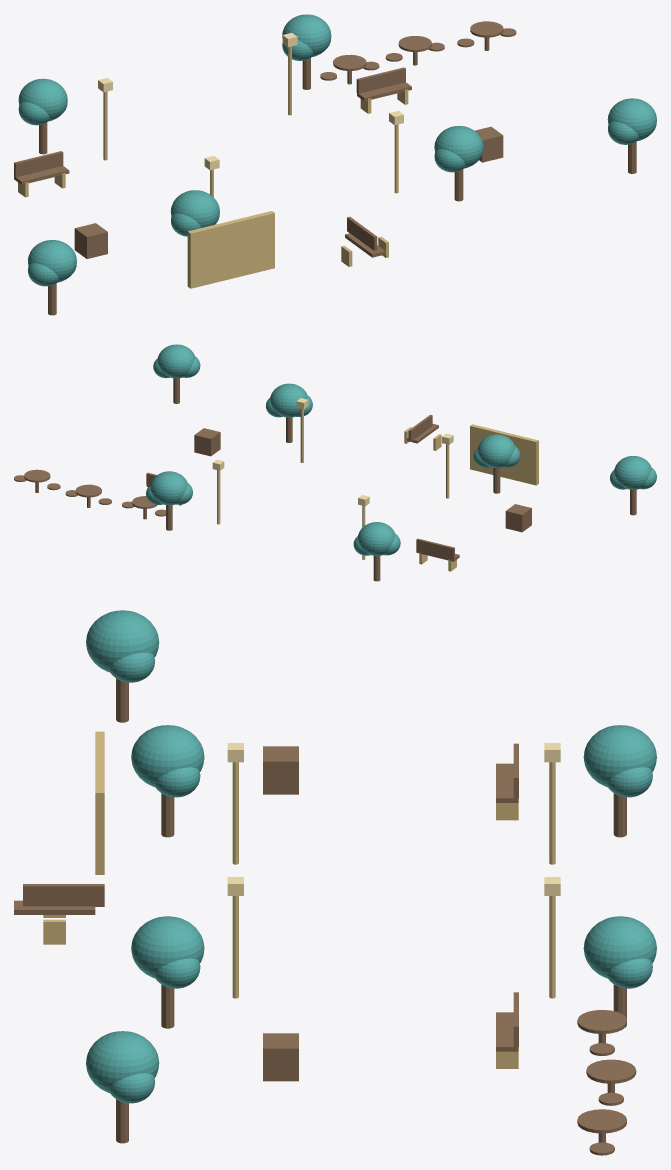
The model's file is nervix_props.glb.
3 views of the same model, one above another, from view 1: azimuth 30°, elevation 25°; view 2: azimuth 150°, elevation 25°; view 3: azimuth 270°, elevation 25° (orthographic). The views are drawn at different scales.
Visible parts, largest first — view 1: ad_plaza, tree_2_leaf0, tree_1_leaf0, tree_4_leaf0, tree_5_leaf0, tree_0_leaf0, tree_3_leaf0, crate_0, bench_1_back, bench_0_back, crate_1, tree_1_leaf2 (+10 smaller); view 2: ad_plaza, tree_3_leaf0, tree_0_leaf0, tree_5_leaf0, tree_4_leaf0, tree_2_leaf0, tree_1_leaf0, crate_0, crate_1, bench_0_back; view 3: tree_3_leaf0, tree_0_leaf0, tree_2_leaf0, tree_4_leaf0, tree_1_leaf0, tree_5_leaf0, bench_2_back, crate_0, crate_1, ad_plaza, tree_2_leaf1, tree_3_leaf1 (+8 smaller).
Boxes of the visible parts, x1,y1,x2,y2 form: ad_plaza: (187, 211, 274, 288); tree_2_leaf0: (18, 78, 67, 121); tree_1_leaf0: (434, 126, 483, 168); tree_4_leaf0: (28, 240, 76, 282); tree_5_leaf0: (607, 98, 656, 140); tree_0_leaf0: (170, 190, 219, 227); tree_3_leaf0: (282, 14, 331, 56); crate_0: (74, 223, 107, 258); bench_1_back: (356, 67, 405, 93); bench_0_back: (14, 151, 63, 177); crate_1: (475, 126, 503, 162); tree_1_leaf2: (434, 149, 465, 172); ad_plaza: (470, 424, 538, 485); tree_3_leaf0: (150, 471, 187, 505); tree_0_leaf0: (477, 434, 515, 468); tree_5_leaf0: (157, 344, 194, 378); tree_4_leaf0: (614, 456, 651, 489); tree_2_leaf0: (358, 522, 395, 555); tree_1_leaf0: (270, 383, 307, 417); crate_0: (505, 504, 531, 532); crate_1: (194, 428, 220, 456); bench_0_back: (416, 538, 454, 559); tree_3_leaf0: (583, 916, 656, 978); tree_0_leaf0: (131, 725, 204, 786); tree_2_leaf0: (583, 725, 656, 787); tree_4_leaf0: (86, 610, 159, 672); tree_1_leaf0: (131, 916, 204, 978); tree_5_leaf0: (86, 1031, 159, 1093); bench_2_back: (23, 884, 104, 906); crate_0: (263, 746, 298, 794); crate_1: (263, 1033, 298, 1081); ad_plaza: (95, 731, 104, 874); tree_2_leaf1: (606, 767, 652, 797); tree_3_leaf1: (606, 958, 652, 988).
Size of the model in its own units: 24.62 by 2.85 by 14.21.
